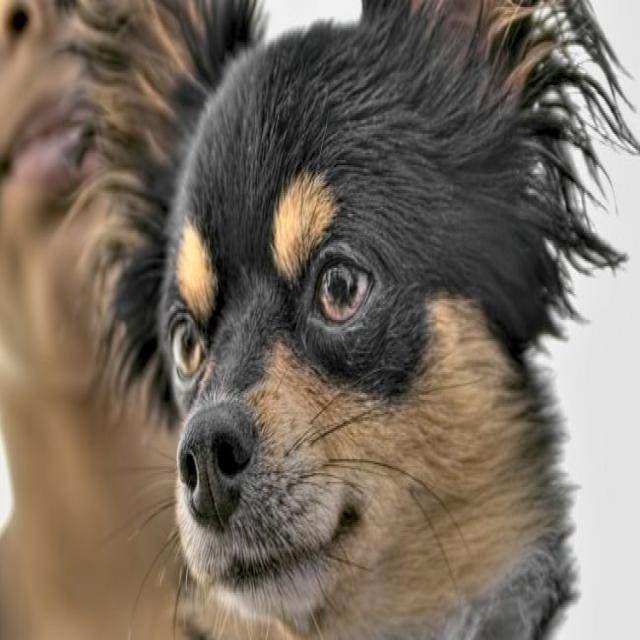dog: (103, 20, 522, 640)
